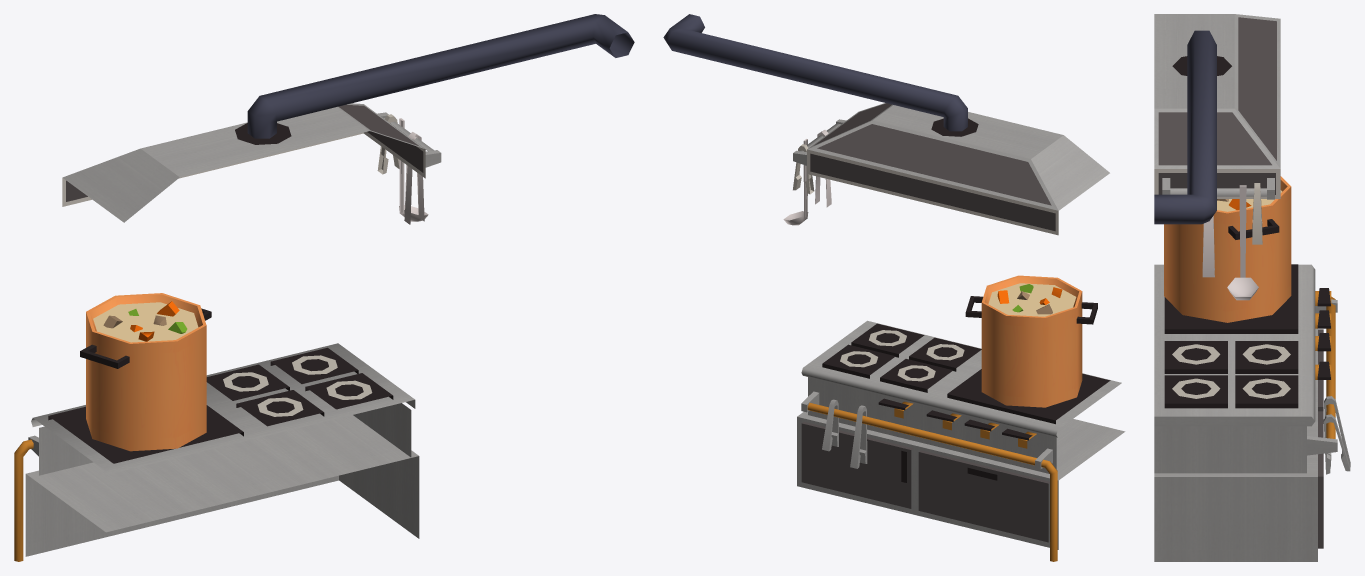
File: interior_B_002.fbx
3 views of the same model, side by side, from view 1: azimuth 30°, elevation 25°; view 2: azimuth 150°, elevation 25°; view 3: azimuth 270°, elevation 25° (orthographic). The views are drawn at different scales.
Parts seen in each view (by area): view 1: interior_B_002; view 2: interior_B_002; view 3: interior_B_002.
Boxes of the visible parts, x1,y1,x2,y2 form: interior_B_002: (14, 14, 634, 561); interior_B_002: (663, 14, 1125, 561); interior_B_002: (1154, 14, 1350, 561).
Size of the model in its own units: 291 by 241 by 90.83.
Materials: 13 (2 with a texture image).
